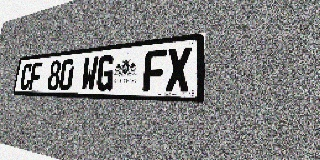0: (58, 59, 75, 91)
8: (47, 60, 62, 90)
C: (19, 63, 33, 90)
F: (142, 49, 167, 92), (29, 62, 43, 90)
G: (95, 54, 115, 91)
W: (80, 56, 99, 91)
X: (165, 47, 192, 92)
